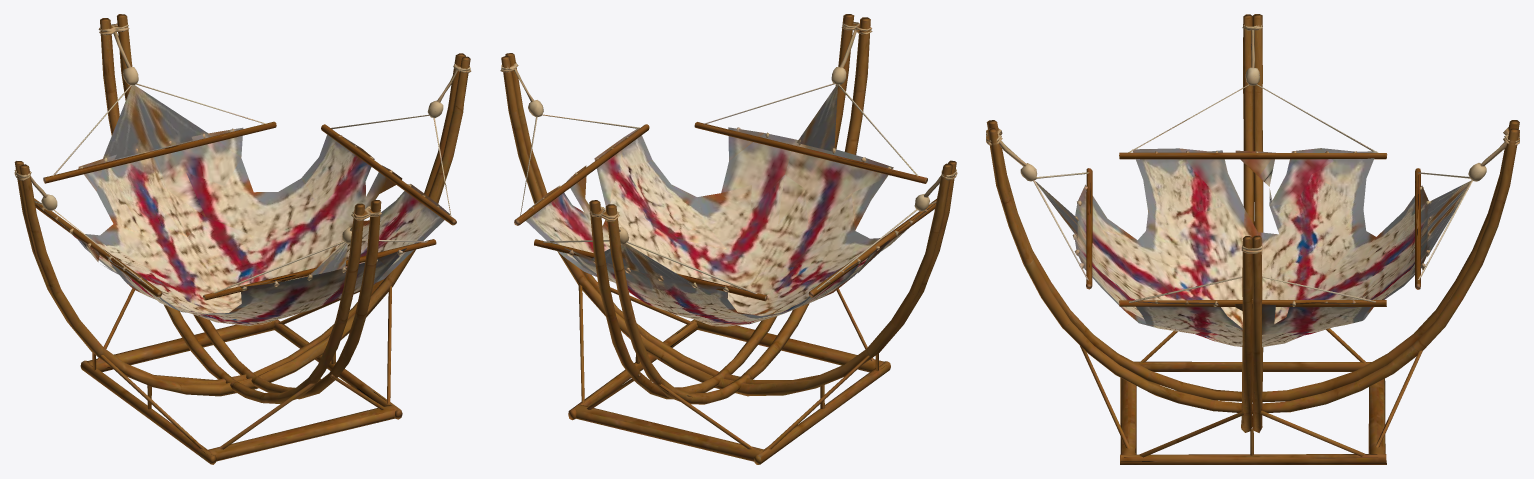
The model's file is abaca-hammock.glb.
3 views of the same model, side by side, from view 1: azimuth 30°, elevation 25°; view 2: azimuth 150°, elevation 25°; view 3: azimuth 270°, elevation 25° (orthographic). The views are drawn at different scales.
Visible parts, largest first — view 1: geometry_0; view 2: geometry_0; view 3: geometry_0.
Boxes of the visible parts, x1,y1,x2,y2 form: geometry_0: (14,14,471,464); geometry_0: (500,14,957,464); geometry_0: (986,14,1519,464).
Size of the model in its own units: 1 by 0.6059 by 1.
Materials: 1 (1 with a texture image).
